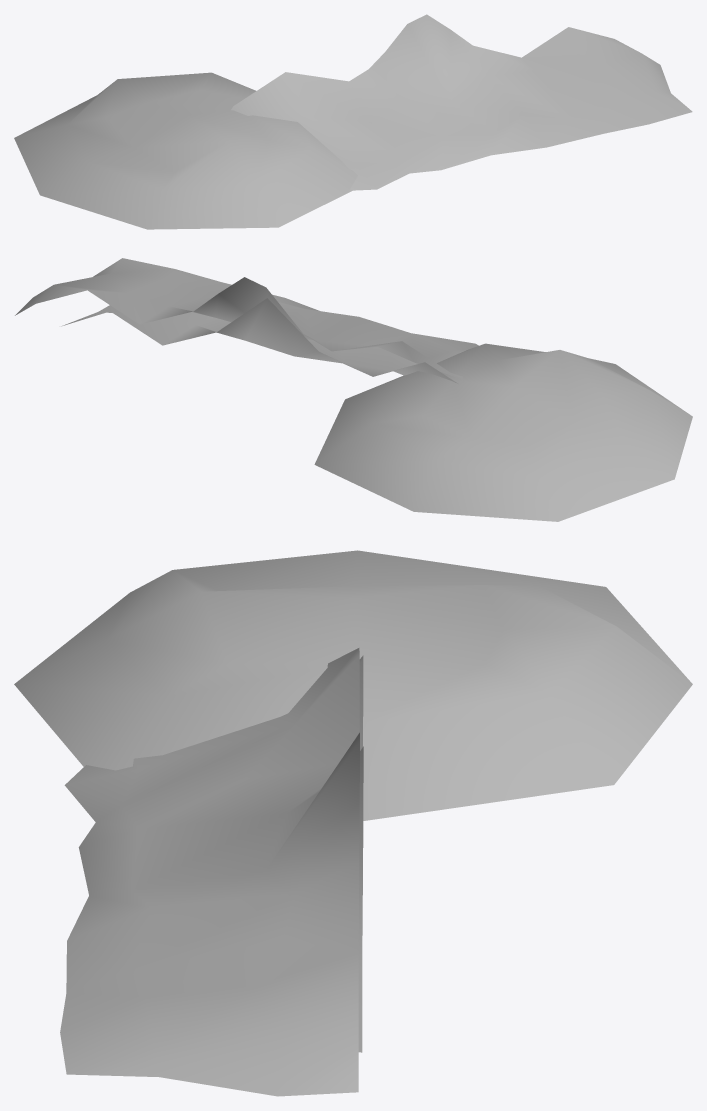
File: bz_dirt_collection.fbx
3 renders of one model, top to bottom at view 1: azimuth 30°, elevation 25°; view 2: azimuth 150°, elevation 25°; view 3: azimuth 270°, elevation 25°, orthographic. The views are drawn at different scales.
Visible parts, largest first — view 1: bz_dirt_05, bz_dirt_03_circle; view 2: bz_dirt_03_circle, bz_dirt_05, bz_dirt_01; view 3: bz_dirt_03_circle, bz_dirt_05, bz_dirt_01.
Part boxes in pixels (x1,y1,x2,y2): bz_dirt_05: (231,14,692,190); bz_dirt_03_circle: (14,72,357,229); bz_dirt_03_circle: (314,343,692,521); bz_dirt_05: (15,258,478,382); bz_dirt_01: (61,298,457,383); bz_dirt_03_circle: (14,550,692,820); bz_dirt_05: (60,648,359,1096); bz_dirt_01: (358,655,363,1052).
Bounding box in the file's own units: 3.86 × 0.5373 × 2.03.
